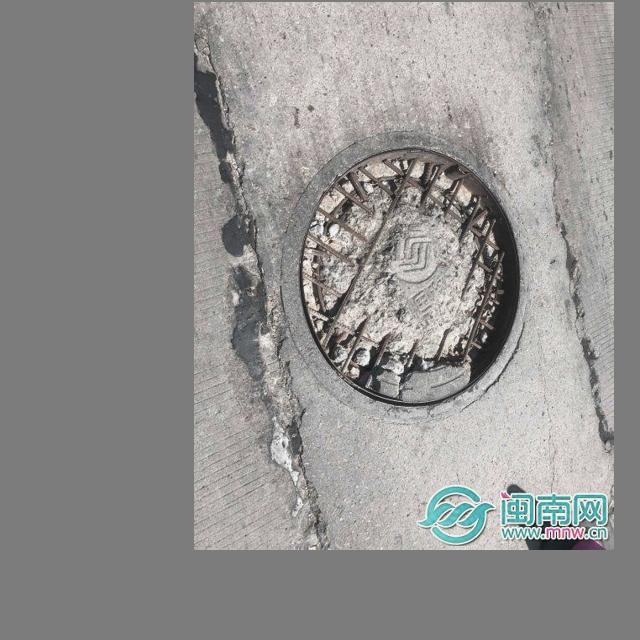broke: (267, 134, 541, 416)
